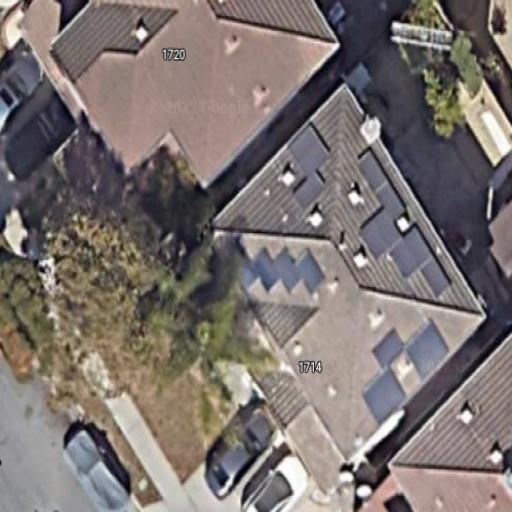Solar-Slope-Roof: (211, 84, 487, 495)
